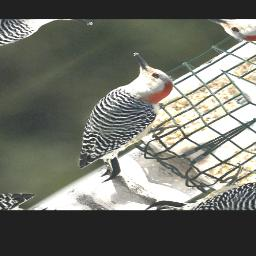Woodpecker: (12, 51, 227, 184)
